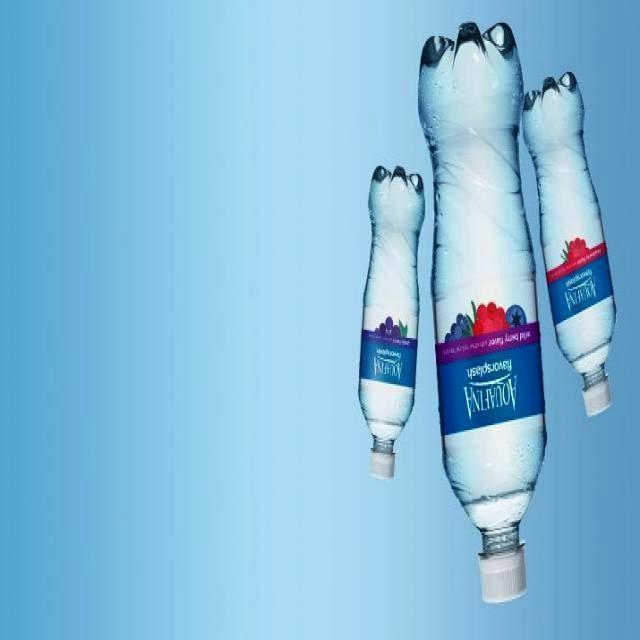bottle: (418, 21, 547, 603), (522, 72, 616, 418), (358, 165, 426, 480)
